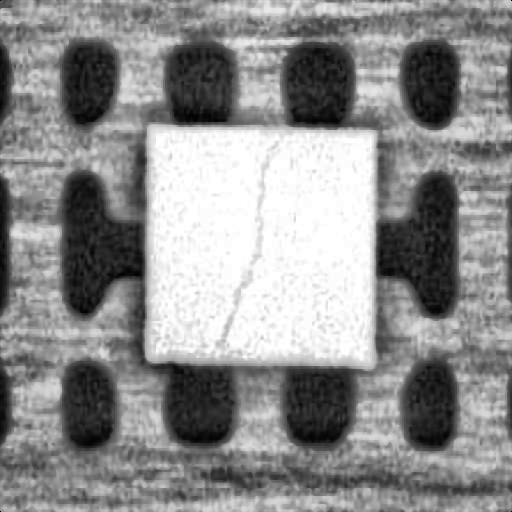DIE_CRACK: (210, 140, 274, 345)
